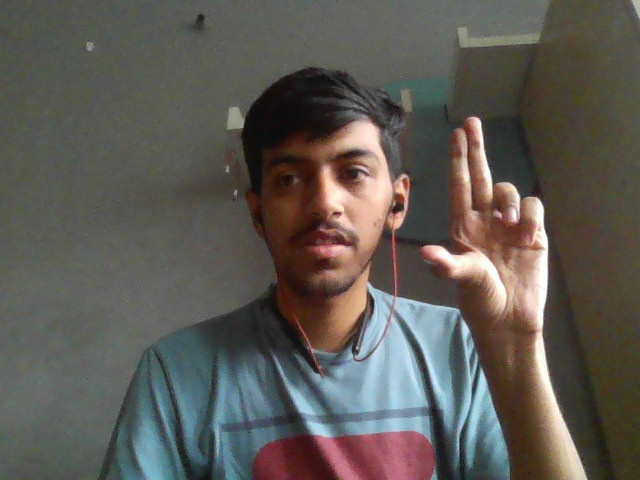No: (418, 111, 560, 346)
